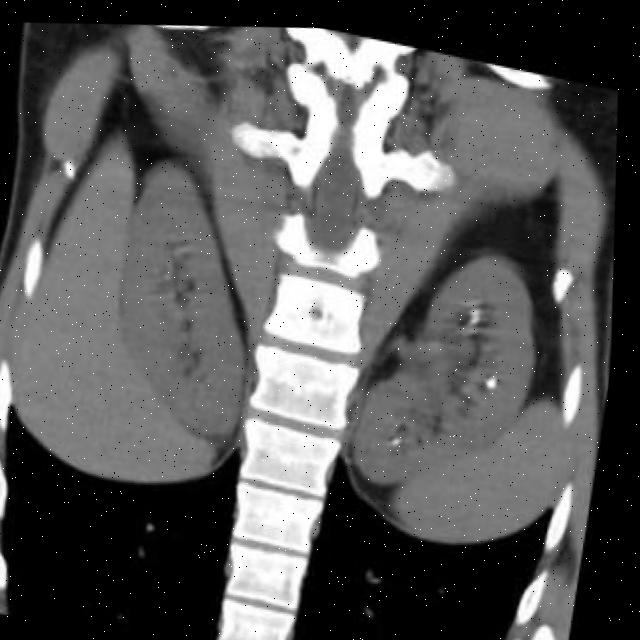Tas_Var: (490, 362, 510, 386), (474, 297, 492, 311), (472, 307, 488, 321), (399, 429, 411, 442)
